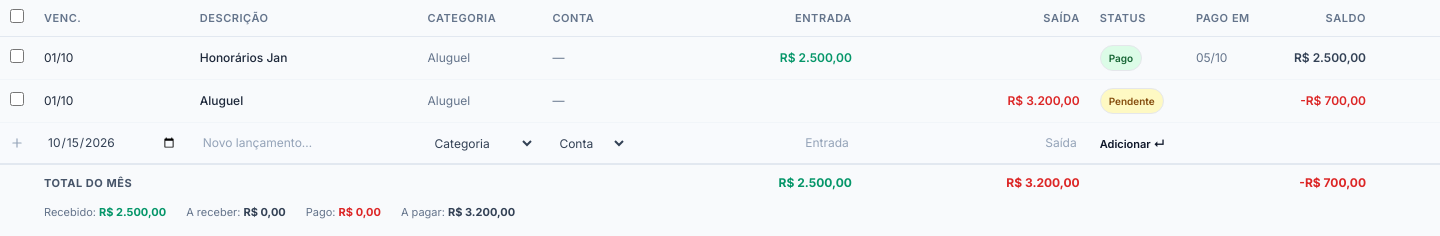
FinancialSheet — edição na célula › Esc cancela sem salvar
Click the cell with test id "cell-expense": (1044, 100) [862,80,1090,122]
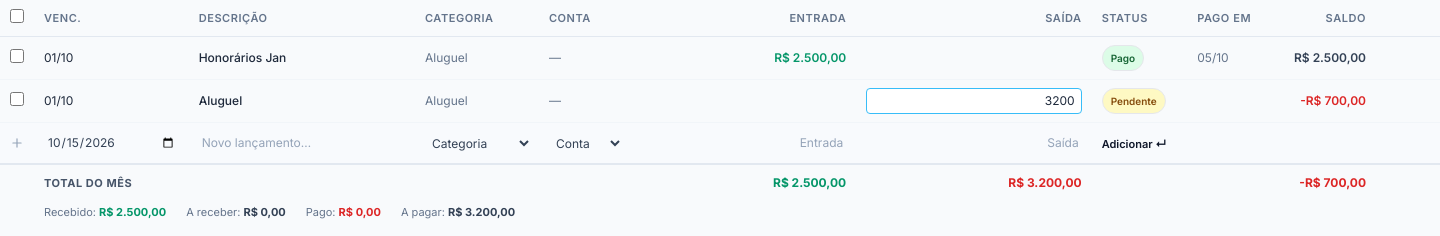
In the field with test id "editor-expense": (974, 101) [866,88,1082,114], type "9"
Then press Escape
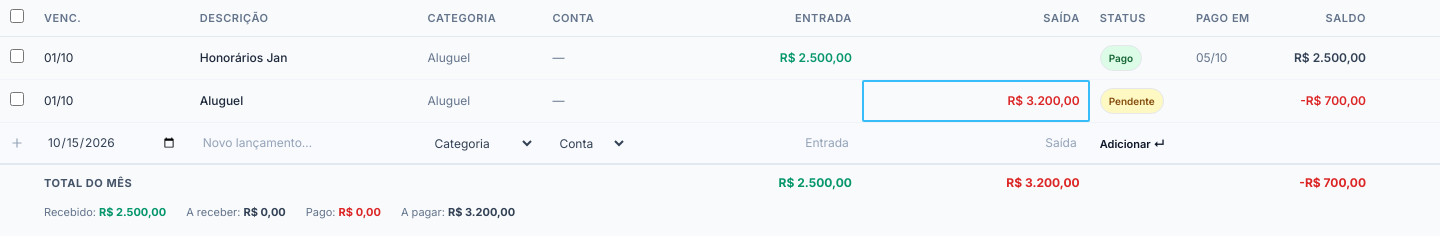
Result: the field with test id "editor-expense" is gone
